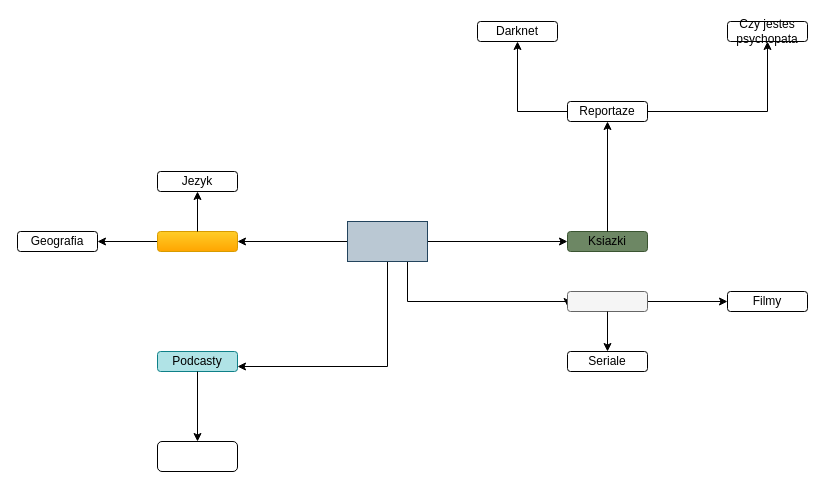
Some shapes in this 825 by 489 pixel diagram are drawn without their labels. The centre of each missing label's shape, as x and y in pixels:
CIEKAWE: the point at 387,241
Hiszpania: the point at 197,241
Obejrzane: the point at 607,301
Yaron Brooks: the point at 197,456
